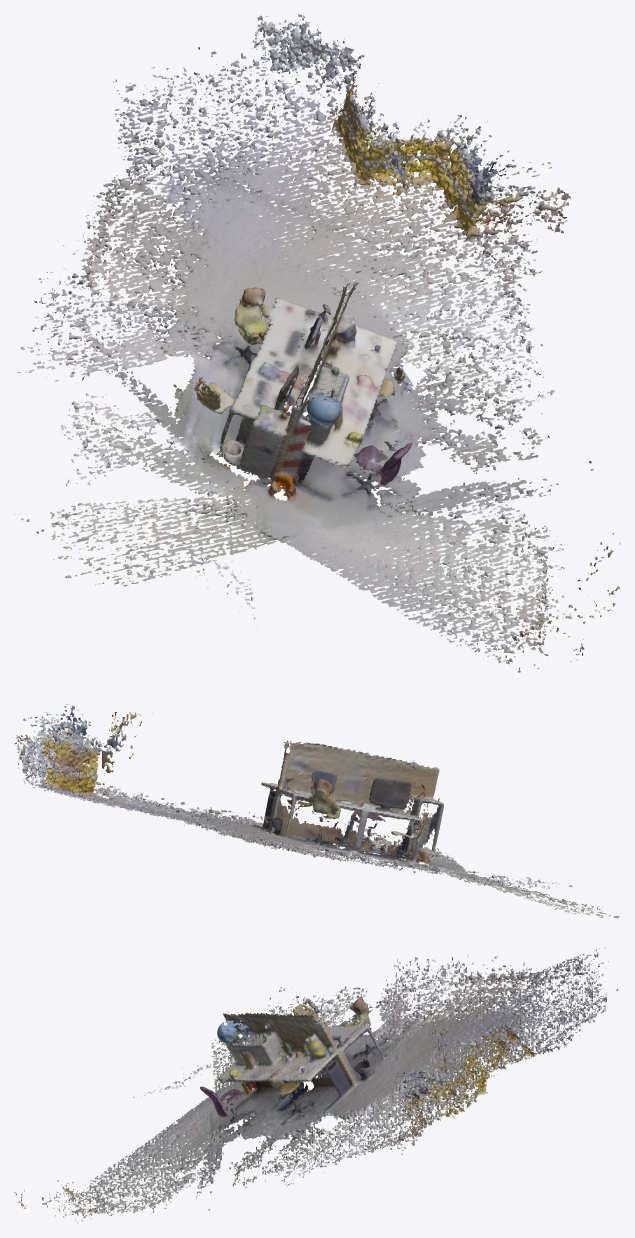
The picture shows the model from 3 angles, top to bottom: view 1: azimuth 30°, elevation 25°; view 2: azimuth 150°, elevation 25°; view 3: azimuth 270°, elevation 25°; orthographic projection. The views are drawn at different scales.
Size of the model in its own units: 9.33 by 5.16 by 10.41.
